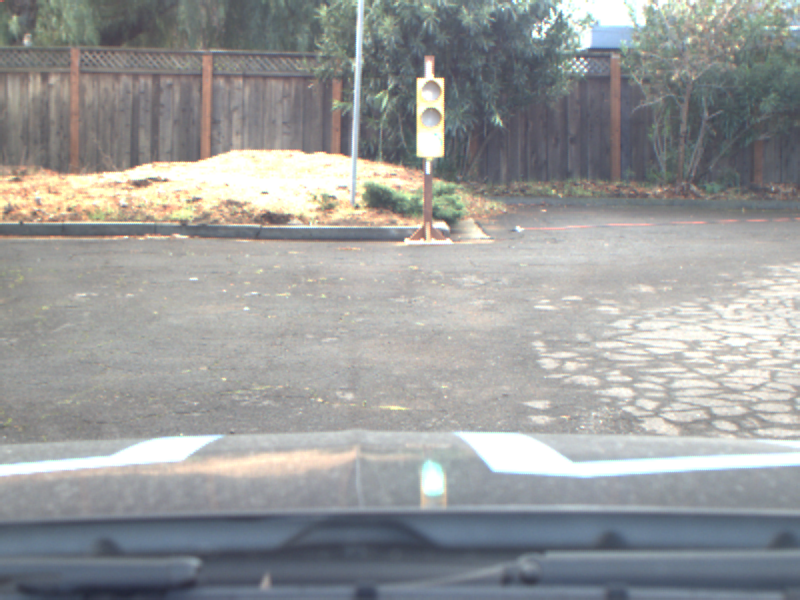Green: (416, 76, 443, 158)
